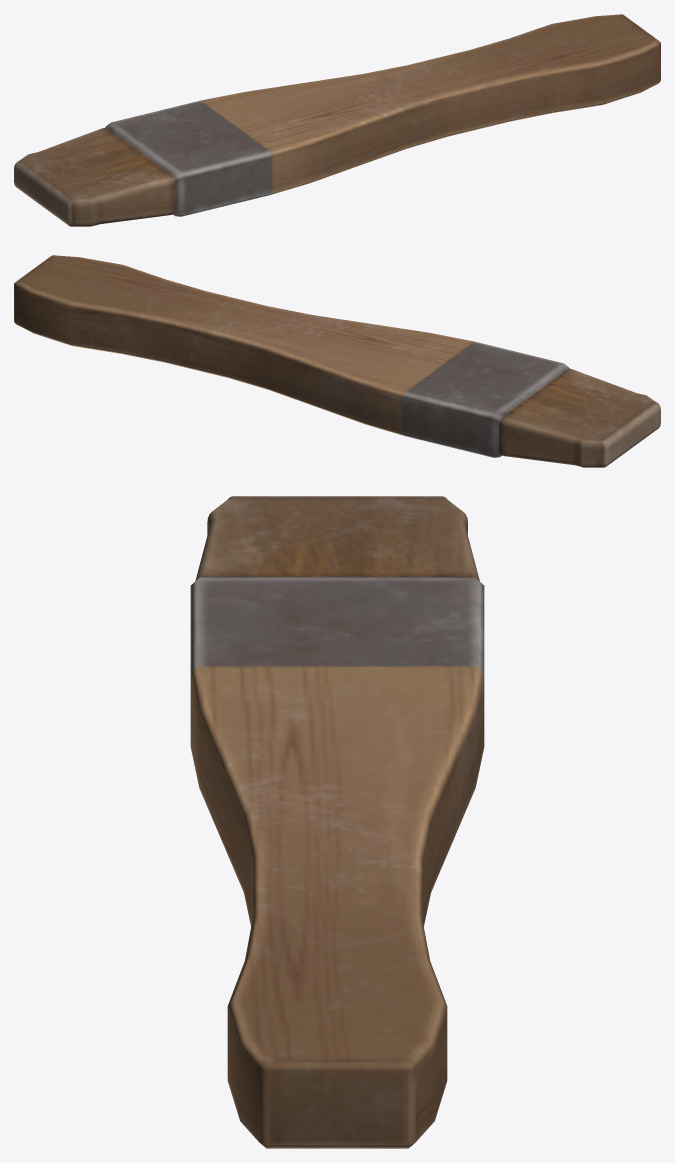
Rendered from SM_PaintBrush_03.fbx.
3 renders of one model, top to bottom at view 1: azimuth 30°, elevation 25°; view 2: azimuth 150°, elevation 25°; view 3: azimuth 270°, elevation 25°, orthographic. The views are drawn at different scales.
Parts seen in each view (by area): view 1: SM_PaintBrush_03_LOD0; view 2: SM_PaintBrush_03_LOD0; view 3: SM_PaintBrush_03_LOD0.
Part boxes in pixels (x1,y1,x2,y2): SM_PaintBrush_03_LOD0: [14, 14, 660, 226]; SM_PaintBrush_03_LOD0: [14, 255, 660, 467]; SM_PaintBrush_03_LOD0: [190, 496, 484, 1148].
Size of the model in its own units: 50.93 by 10.74 by 3.51.
1 material, 1 textured.
